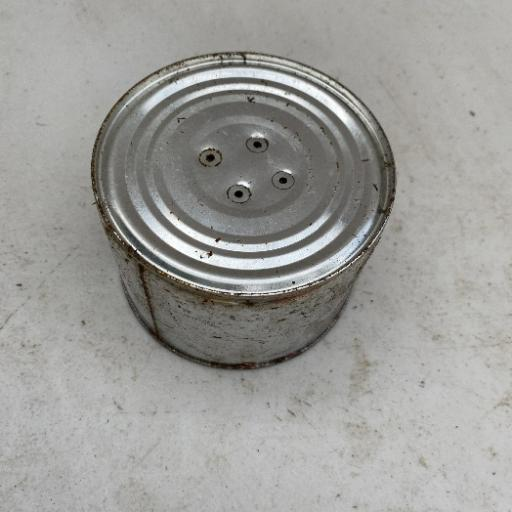Metal: (88, 49, 399, 371)
